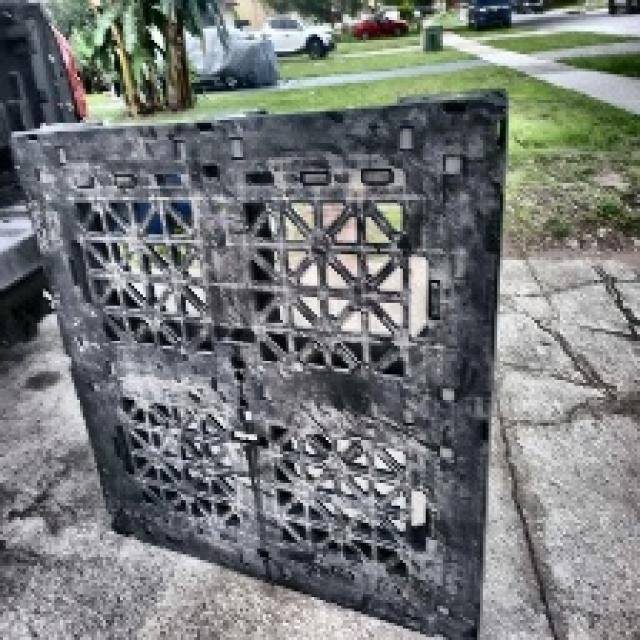igps: (1, 77, 516, 640)
